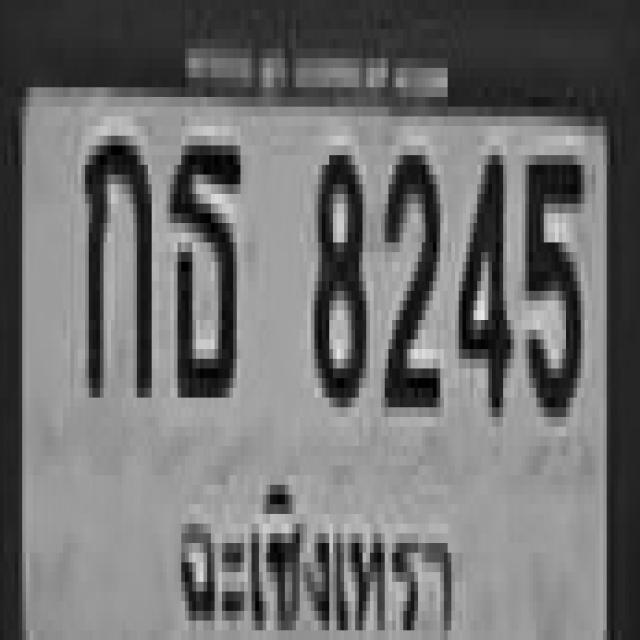10GorGai: (81, 126, 148, 388)
2: (381, 146, 437, 398)
33ThorThong: (166, 136, 237, 388)
4: (455, 146, 507, 408)
5: (522, 146, 580, 408)
8: (310, 146, 362, 398)
Chachoengsao: (173, 480, 461, 640)
